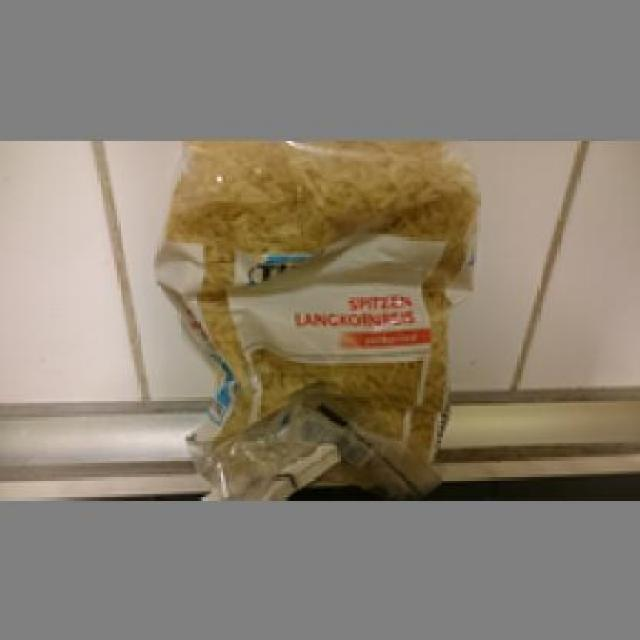Rice: (145, 134, 478, 494)
